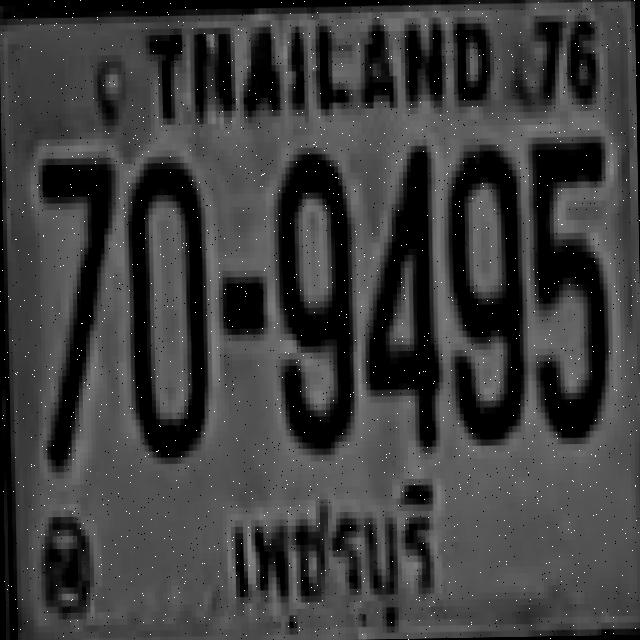0: (123, 149, 205, 451)
4: (360, 138, 438, 440)
5: (528, 130, 606, 438)
7: (38, 151, 116, 459), (37, 151, 114, 357)
9: (272, 146, 350, 448), (444, 137, 522, 439)
Phetchaburi: (216, 468, 445, 634)
